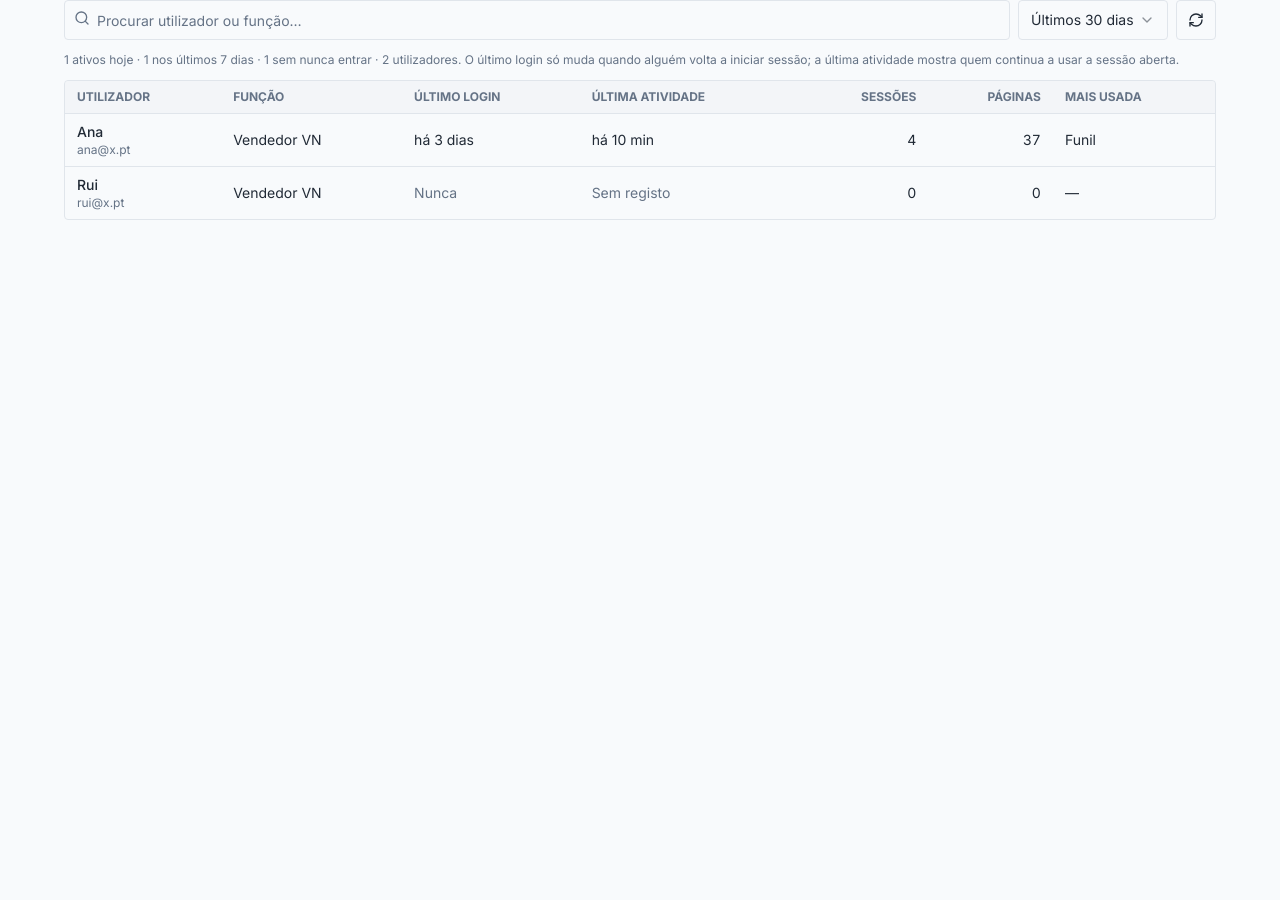
Scenario: Página Logs › abre as últimas páginas do utilizador
Step 1. Click the text "Ana" → click(90, 132), box [77,123,103,140]
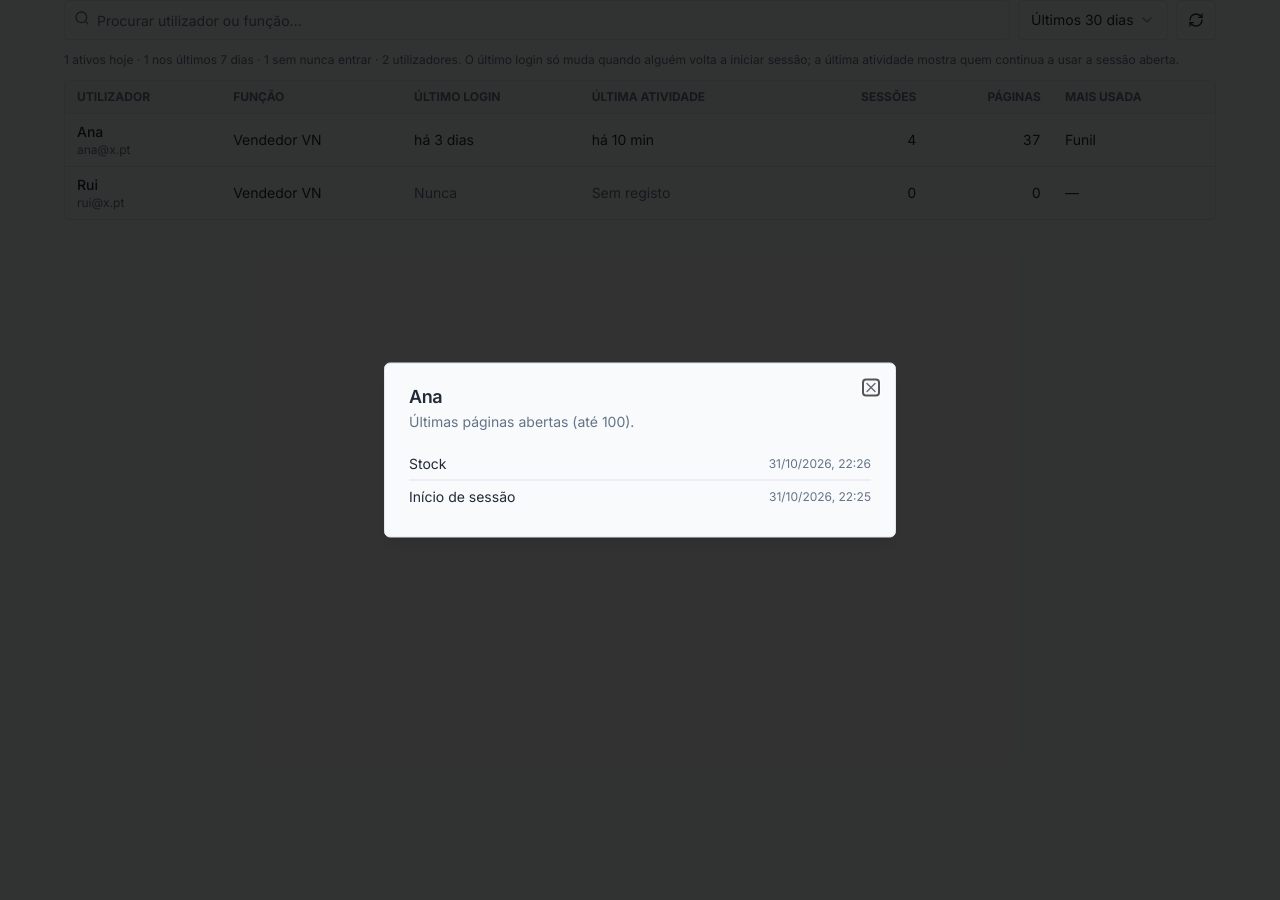
Result: the text "Início de sessão" is shown at [409,486,515,506]
Result: the text "Stock" is shown at [409,454,446,474]
